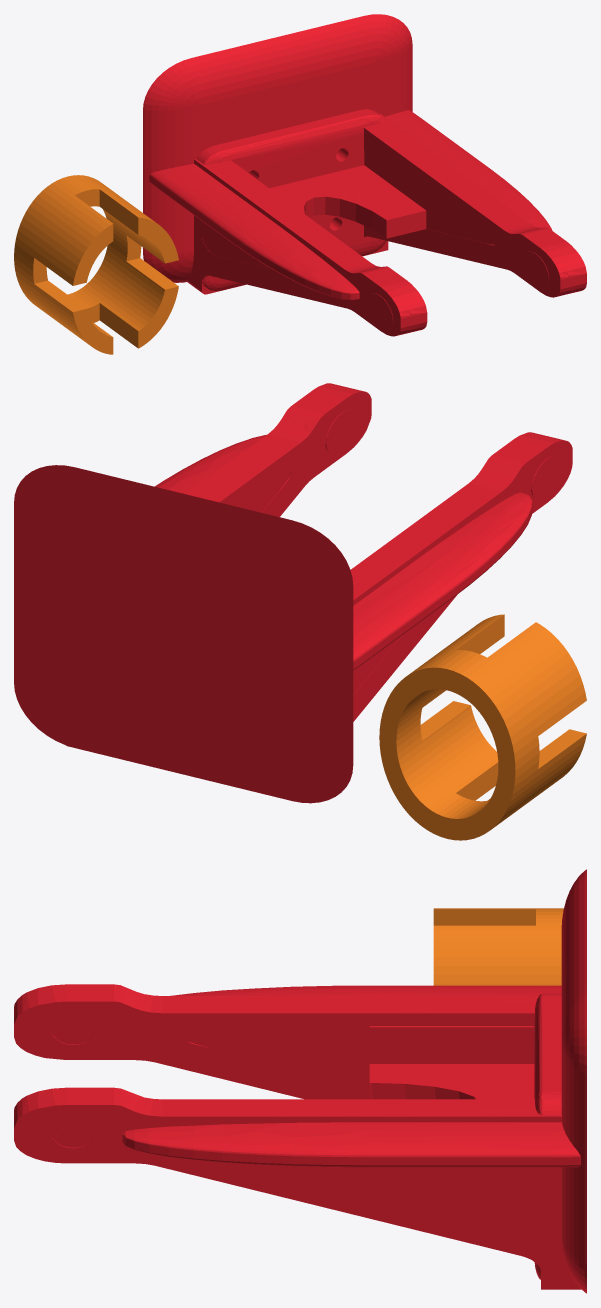
File: tinker.obj
3 renders of one model, top to bottom at view 1: azimuth 30°, elevation 25°; view 2: azimuth 150°, elevation 25°; view 3: azimuth 270°, elevation 25°, orthographic. The views are drawn at different scales.
Parts seen in each view (by area): view 1: group_0_15277357, group_0_16089887; view 2: group_0_15277357, group_0_16089887; view 3: group_0_15277357, group_0_16089887.
Boxes of the visible parts, x1,y1,x2,y2 form: group_0_15277357: (143, 14, 586, 336); group_0_16089887: (14, 175, 178, 354); group_0_15277357: (14, 383, 572, 803); group_0_16089887: (379, 614, 586, 840); group_0_15277357: (14, 869, 586, 1293); group_0_16089887: (433, 908, 563, 985).
Bounding box in the file's own units: 95.82 × 51.28 × 90.
